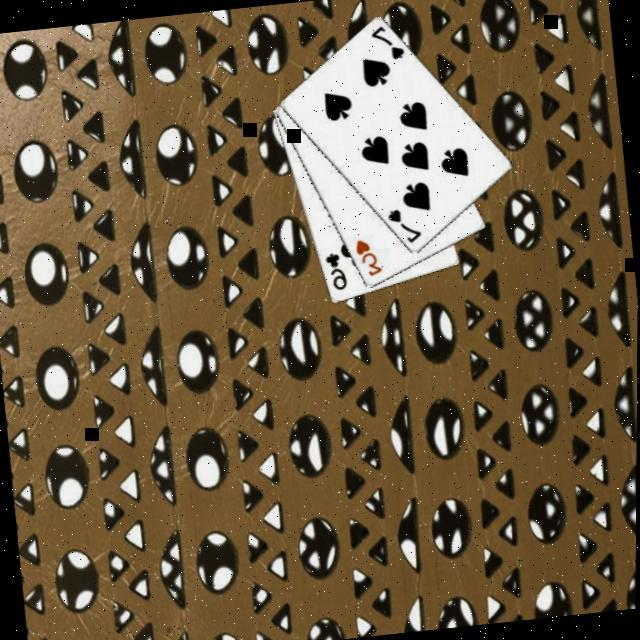3H: (350, 232, 384, 279)
7S: (383, 201, 423, 247), (366, 19, 406, 63)
9C: (320, 246, 348, 292)
